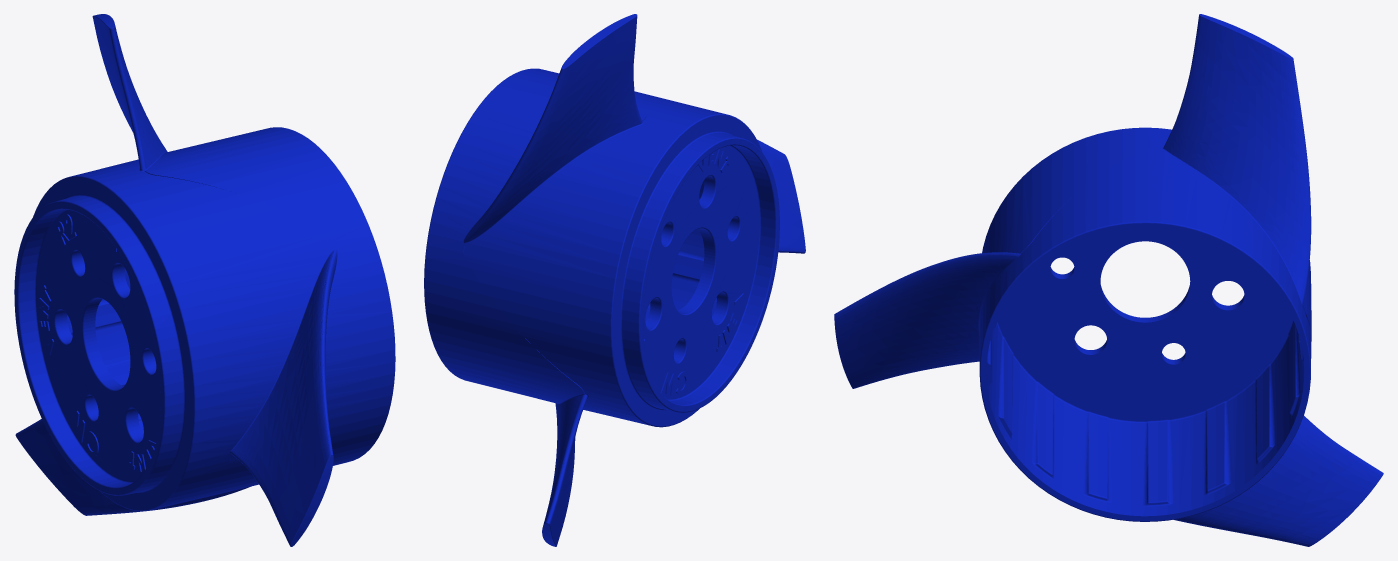
Rendered from right_propeller_link_visual.obj.
The picture shows the model from 3 angles, left to right: view 1: azimuth 30°, elevation 25°; view 2: azimuth 150°, elevation 25°; view 3: azimuth 270°, elevation 25°; orthographic projection. The views are drawn at different scales.
Parts seen in each view (by area): view 1: right_propeller_link_visual.001; view 2: right_propeller_link_visual.001; view 3: right_propeller_link_visual.001.
Part boxes in pixels (box(x1,y1,x2,y2)): right_propeller_link_visual.001: box(14, 14, 395, 546); right_propeller_link_visual.001: box(424, 14, 805, 546); right_propeller_link_visual.001: box(834, 14, 1383, 546).
Size of the model in its own units: 0.0453 by 0.1052 by 0.1011.
